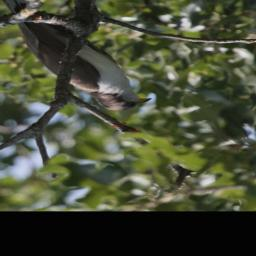Cuckoo: (0, 0, 153, 112)
